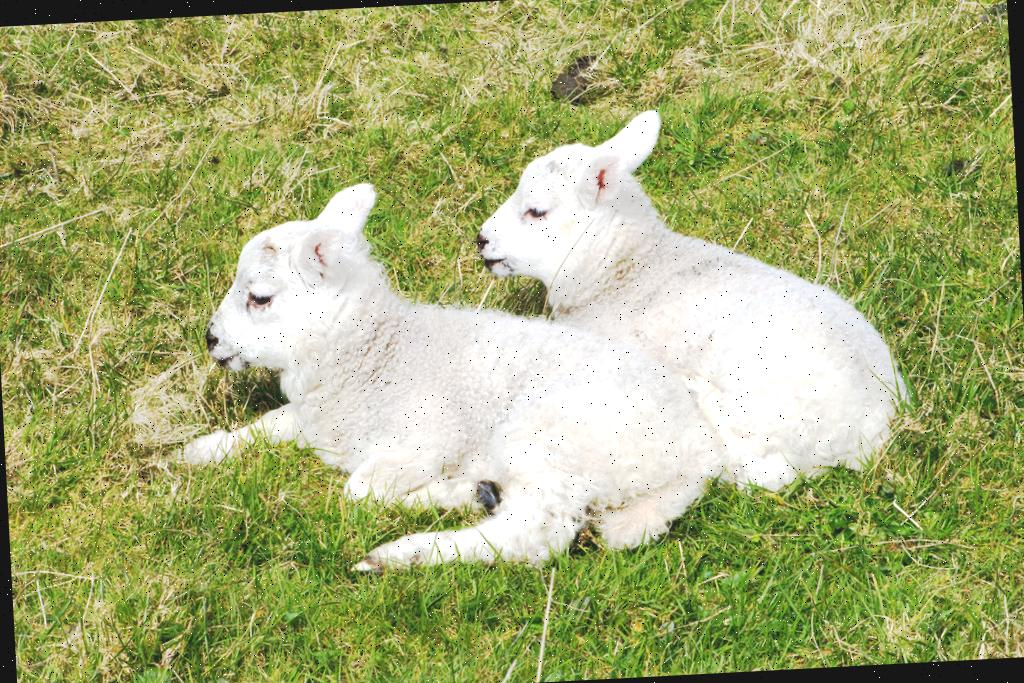Sheep: (191, 196, 679, 583), (472, 109, 940, 493)
